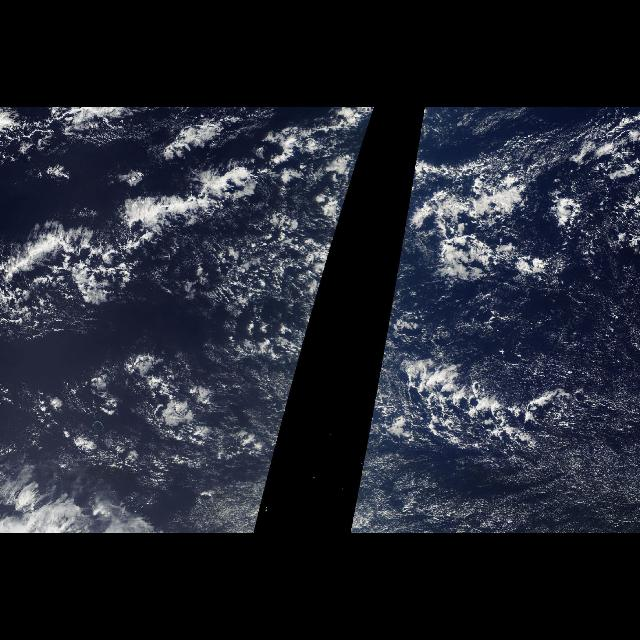Fish: (11, 202, 238, 304)
Gravel: (370, 330, 556, 460)
Sugar: (350, 286, 640, 534)
